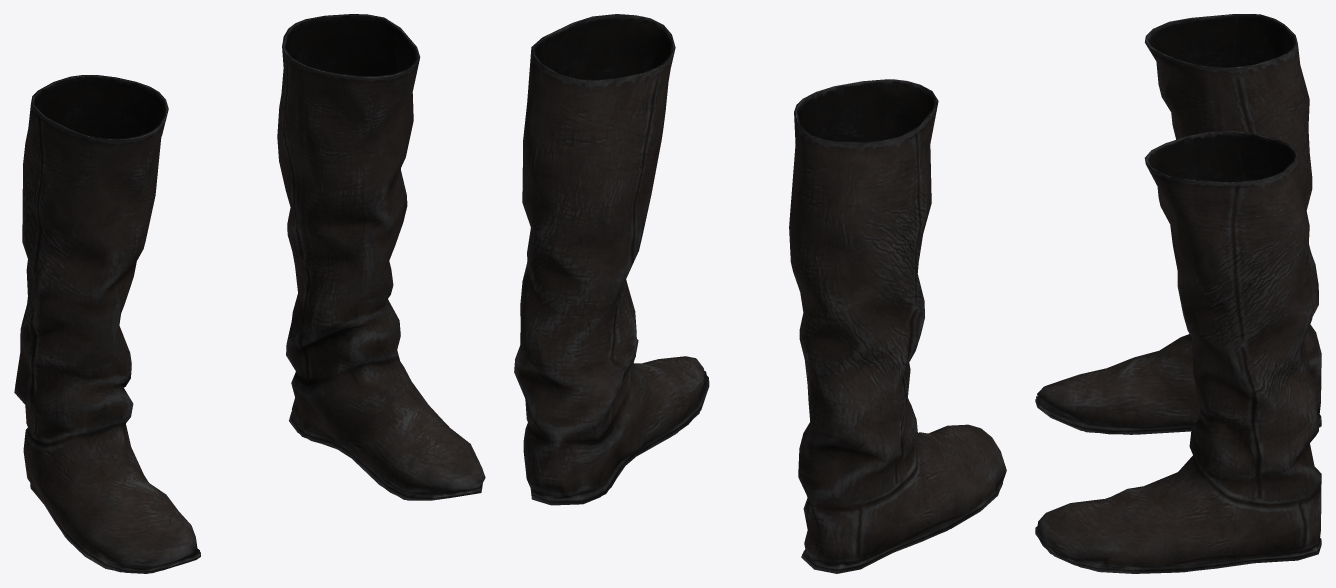
The model's file is lrd_marines_gondor_1_boots.fbx.
The picture shows the model from 3 angles, left to right: view 1: azimuth 30°, elevation 25°; view 2: azimuth 150°, elevation 25°; view 3: azimuth 270°, elevation 25°; orthographic projection. The views are drawn at different scales.
Visible parts, largest first — view 1: lrd_marines_gondor_1_boots; view 2: lrd_marines_gondor_1_boots; view 3: lrd_marines_gondor_1_boots.
Boxes of the visible parts, <box> form: lrd_marines_gondor_1_boots: <box>14,14,485,573</box>; lrd_marines_gondor_1_boots: <box>514,14,1006,573</box>; lrd_marines_gondor_1_boots: <box>1035,14,1321,573</box>.
Bounding box in the file's own units: 0.456 × 0.3093 × 0.4669.
1 material, 1 textured.
